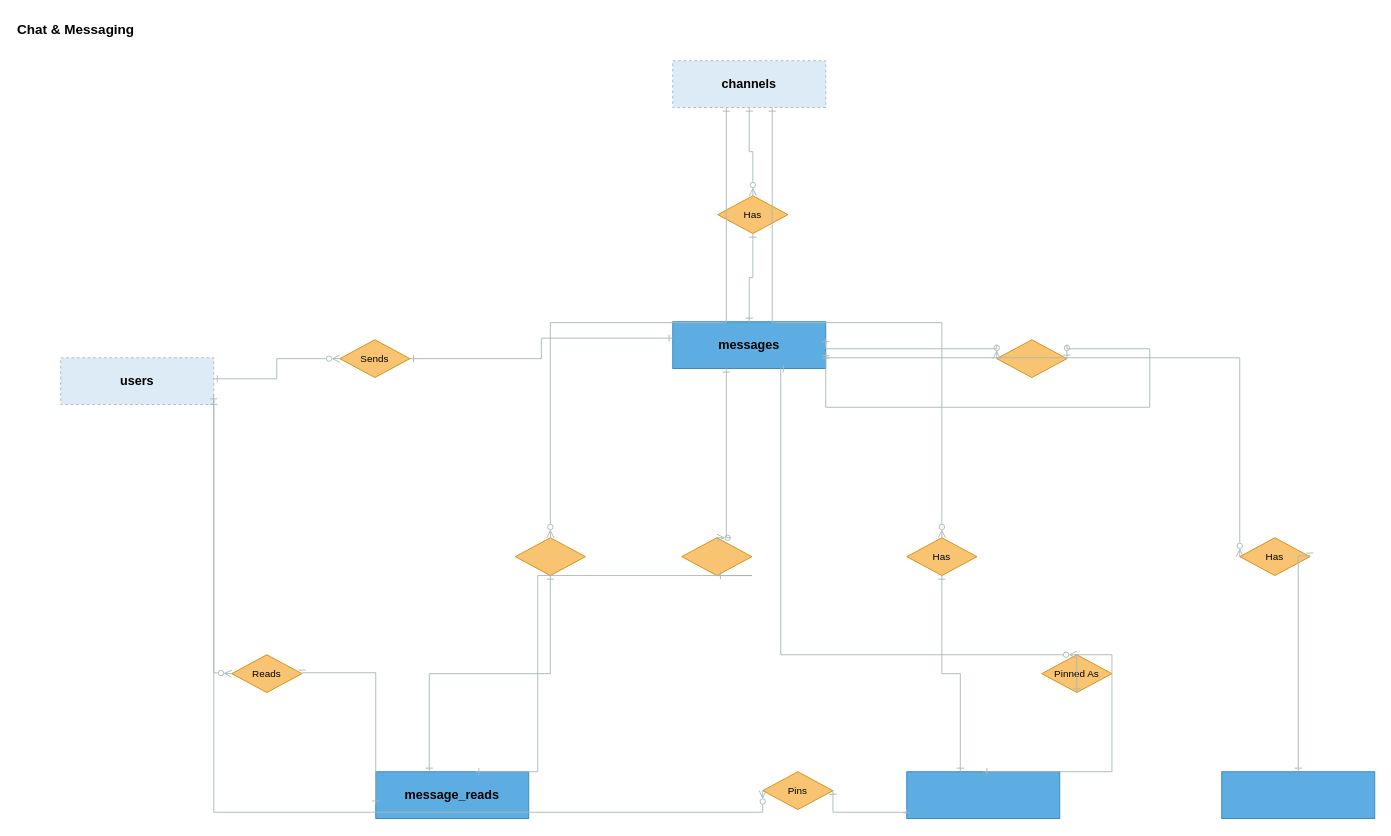
Image size: 1391x836. Some labels were removed from this diagram. The shapes that lost their labels are listed below. From the top down, each one's centre as x and y in pixels, then its label:
point (1031, 358): Reply To
point (549, 556): Tracks
point (716, 556): Tracked By
point (983, 795): message_pins
point (1298, 795): message_attachments
